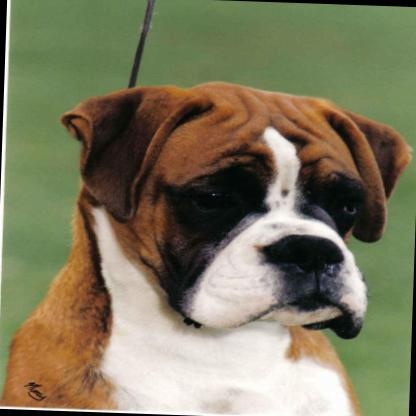boxer: (0, 71, 416, 416)
